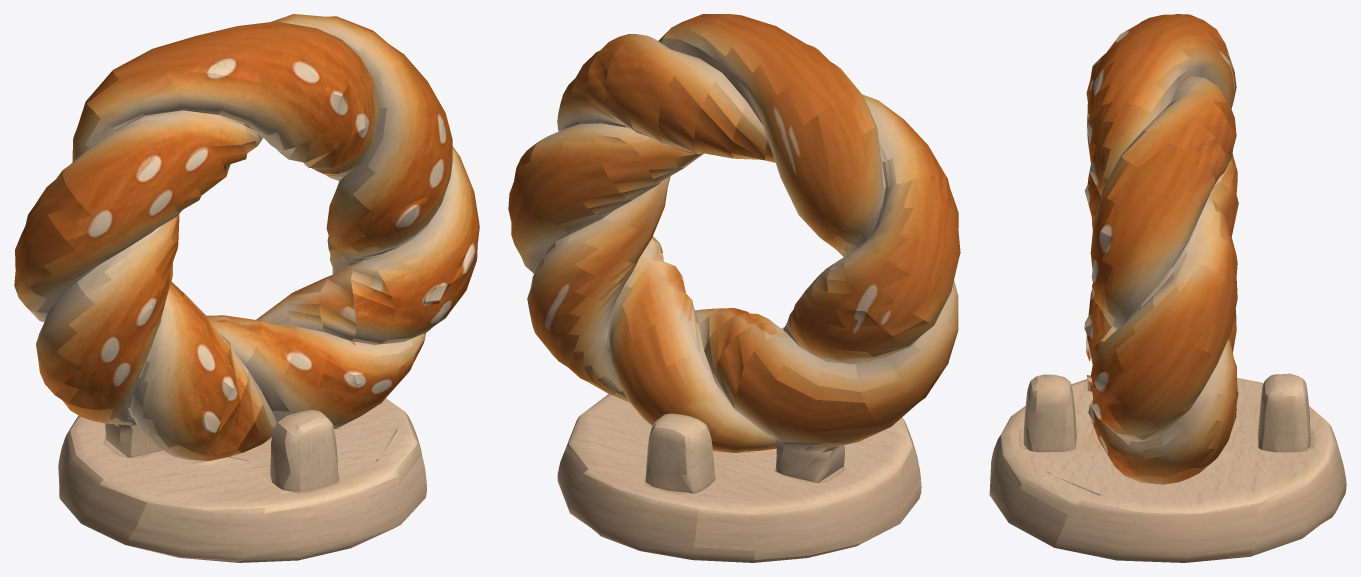
Rendered from simit.glb.
The picture shows the model from 3 angles, left to right: view 1: azimuth 30°, elevation 25°; view 2: azimuth 150°, elevation 25°; view 3: azimuth 270°, elevation 25°; orthographic projection. The views are drawn at different scales.
Visible parts, largest first — view 1: Mesh0; view 2: Mesh0; view 3: Mesh0.
Part boxes in pixels (x1,y1,x2,y2): Mesh0: [14, 14, 479, 562]; Mesh0: [508, 14, 960, 562]; Mesh0: [989, 14, 1346, 562].
Bounding box in the file's own units: 1.89 × 1.9 × 1.36.
Materials: 1 (1 with a texture image).
